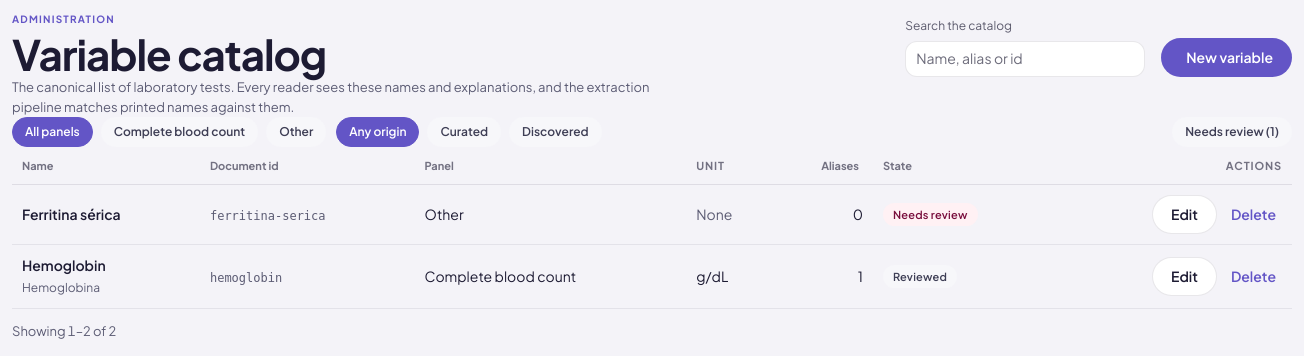
Test case: AdminVariables › filters down to what still needs a human
Step 1. Click the button "Needs review (1)" → (1232, 132), box x1=1172 y1=117 x2=1292 y2=147
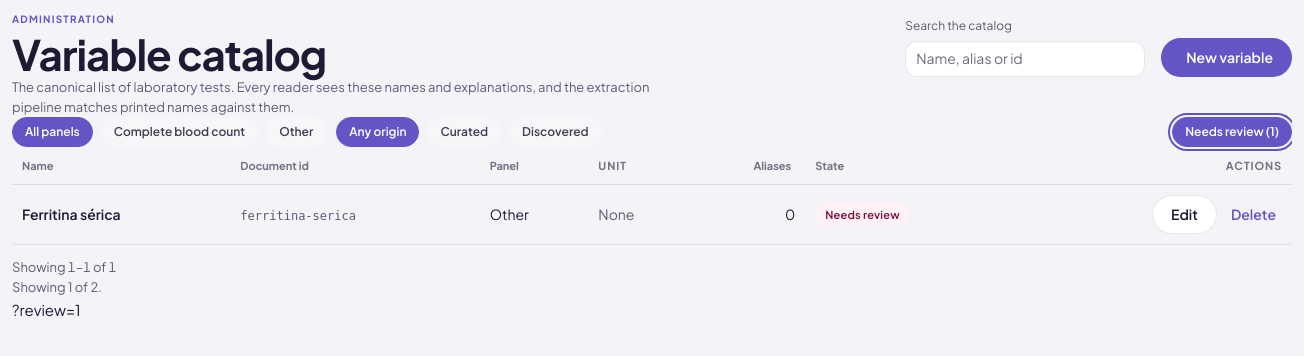
Expected: the text "Ferritina sérica" is shown, x1=22 y1=205 x2=121 y2=223
Expected: the text "Hemoglobin" is gone
